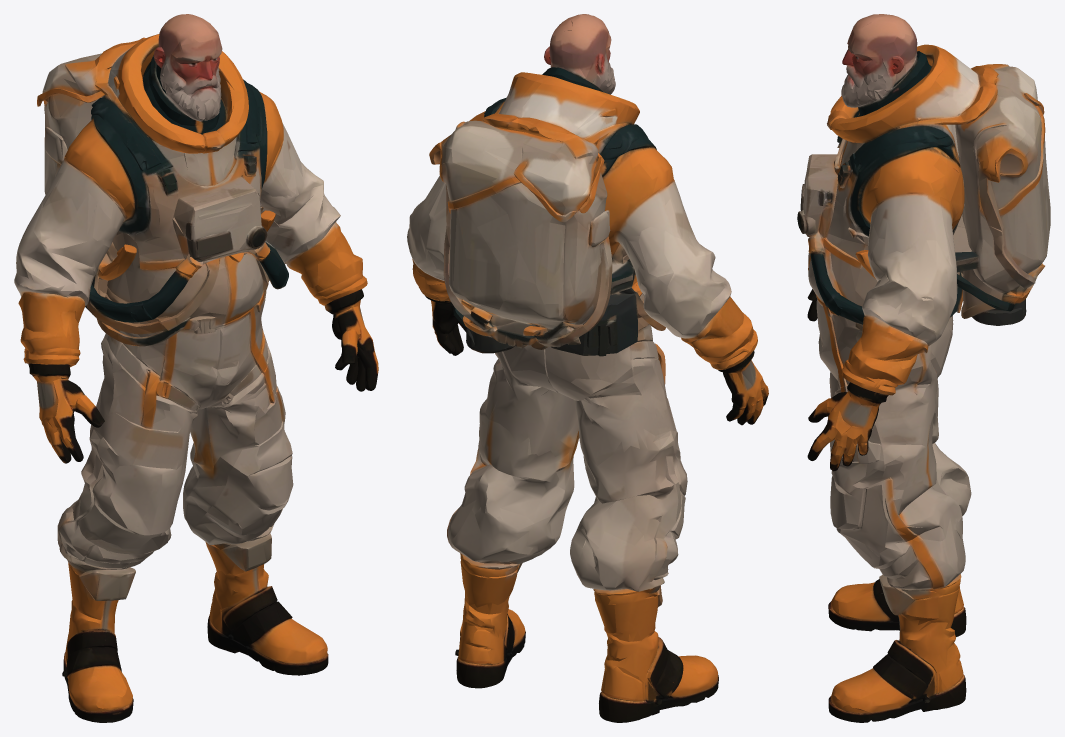
File: A3-paint-suit_remesh30k.glb
3 renders of one model, left to right at view 1: azimuth 30°, elevation 25°; view 2: azimuth 150°, elevation 25°; view 3: azimuth 270°, elevation 25°, orthographic.
Visible parts, largest first — view 1: output_unwrapped; view 2: output_unwrapped; view 3: output_unwrapped.
Boxes of the visible parts, box(x1,y1,x2,y2) form: output_unwrapped: box(14, 14, 378, 722); output_unwrapped: box(407, 14, 768, 722); output_unwrapped: box(797, 14, 1050, 722).
Size of the model in its own units: 1.01 by 1.9 by 0.6739.
Materials: 1 (1 with a texture image).
